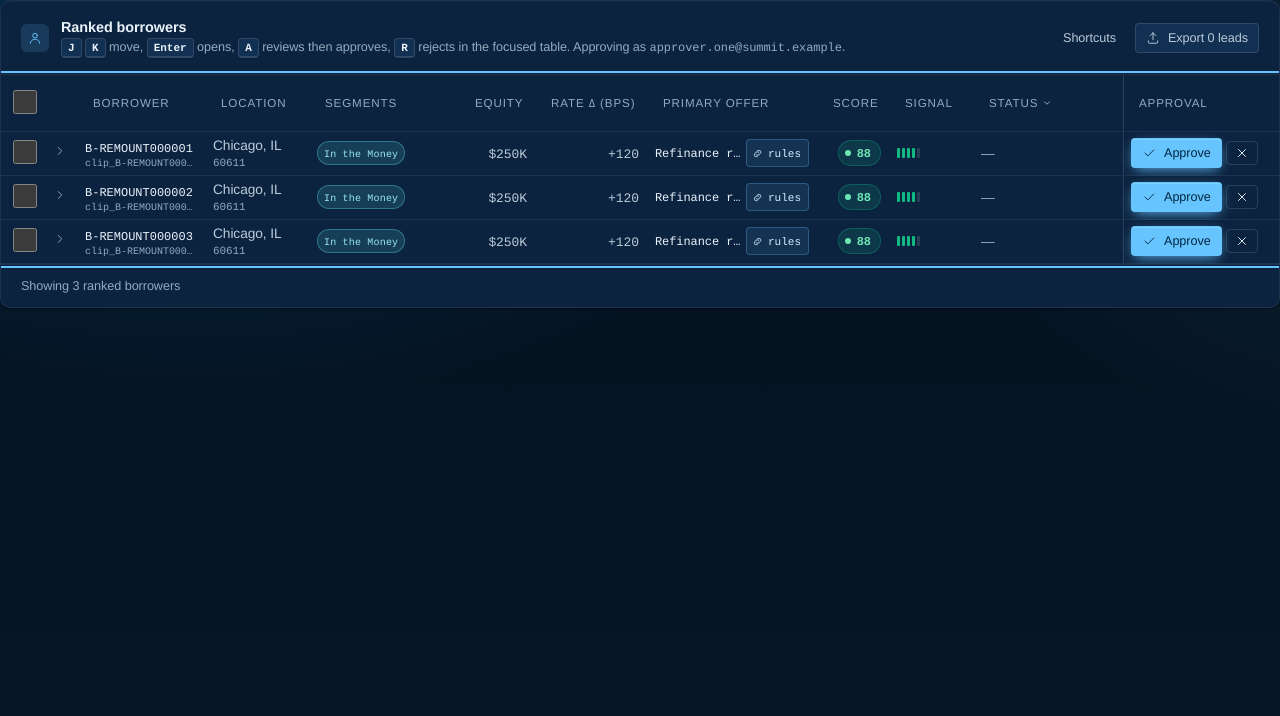
Test: LeadTable: a decision on the wire locks its row's review, across a remount › a review already open when its row's reject goes on the wire stays open, approves nothing, and closes on the reject
This screenshot has width=1280, height=716.
Press j in the element with class "tbl-wrap", box [1,75,1279,264]
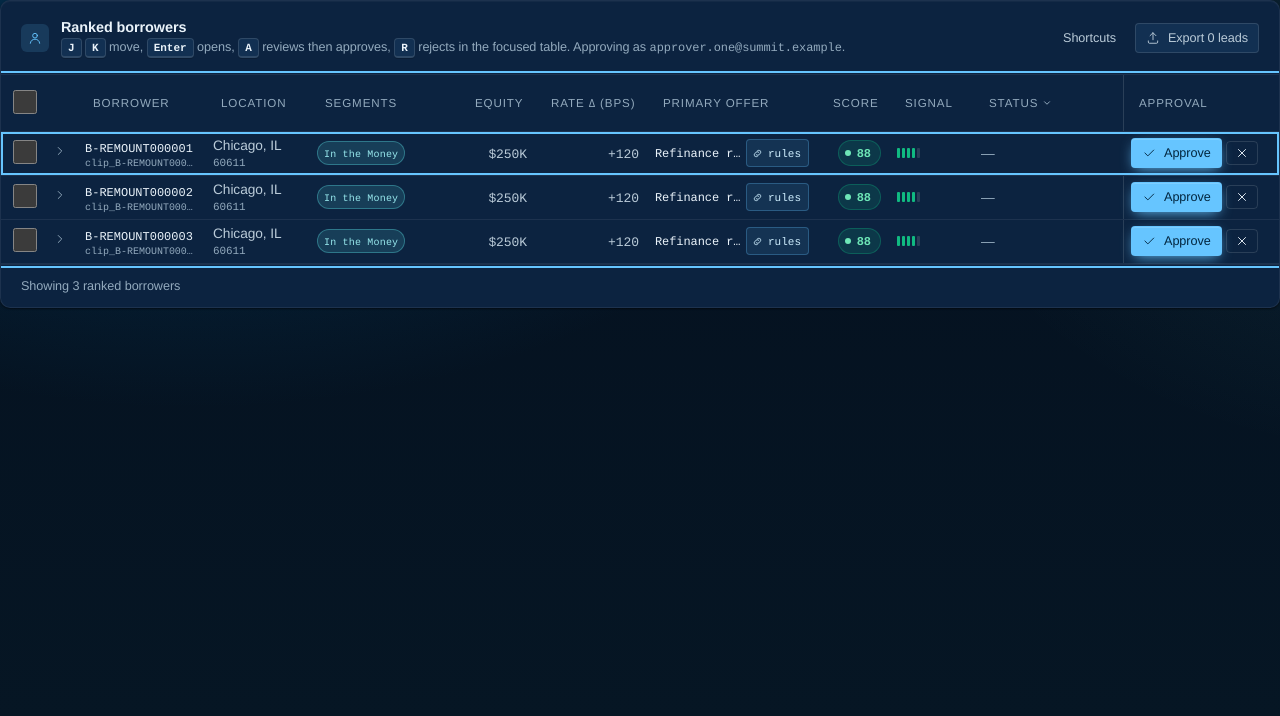
Press Enter in the element with class "tbl-wrap", box [1,75,1279,264]
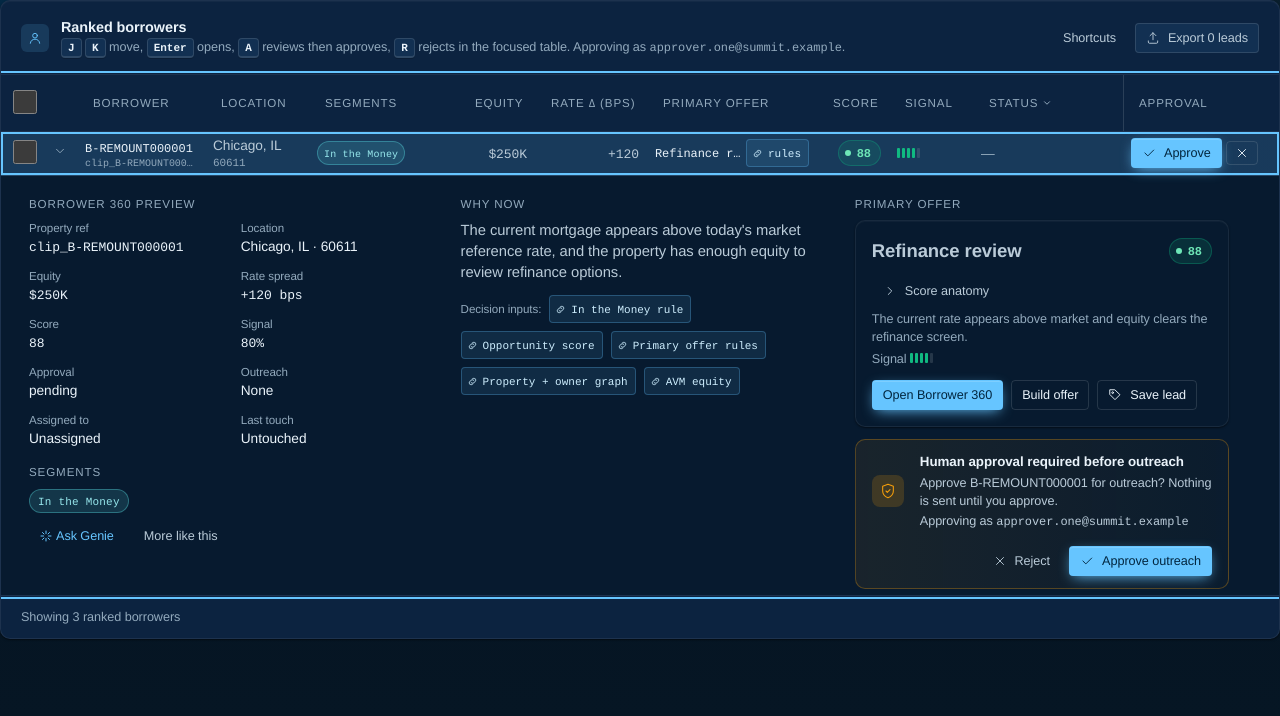
Press a in the element with class "tbl-wrap"
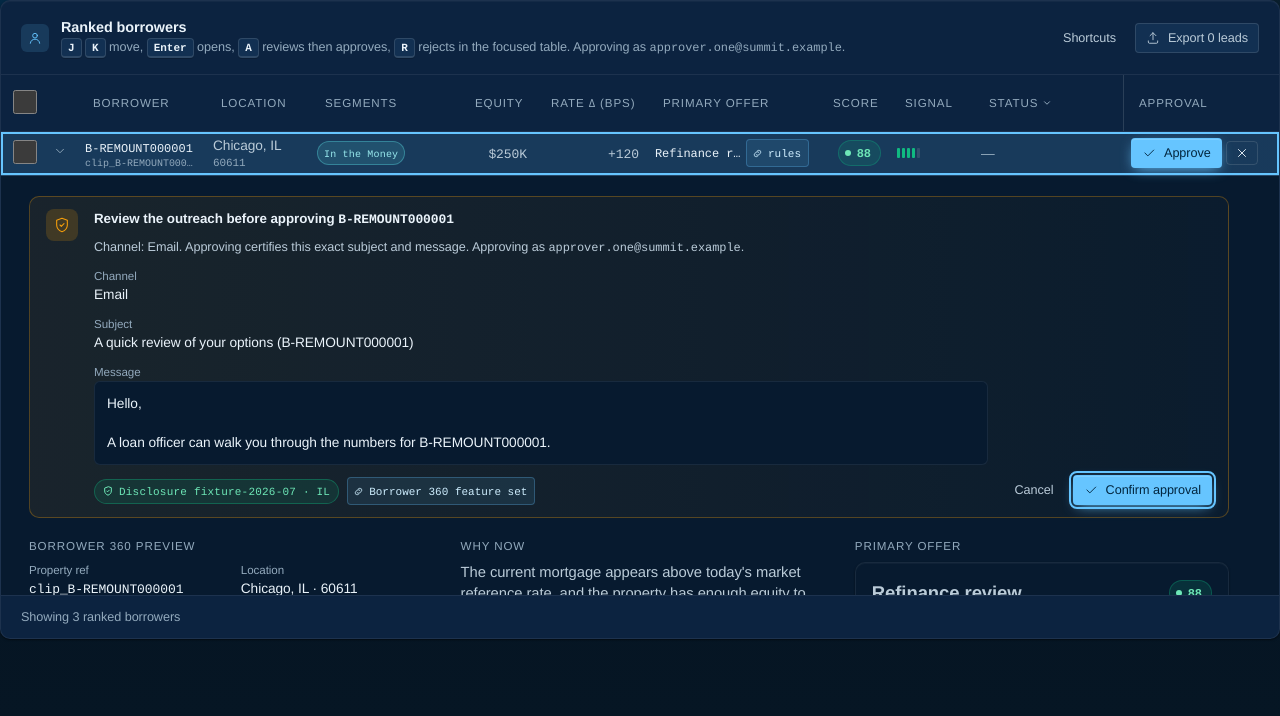
Expected: the form with test id "lead-approve-review" shows "B-REMOUNT000001", [338,210,454,227]
Click the button named "Reject B-REMOUNT000001" at [1242, 153], box [1226,141,1258,165]
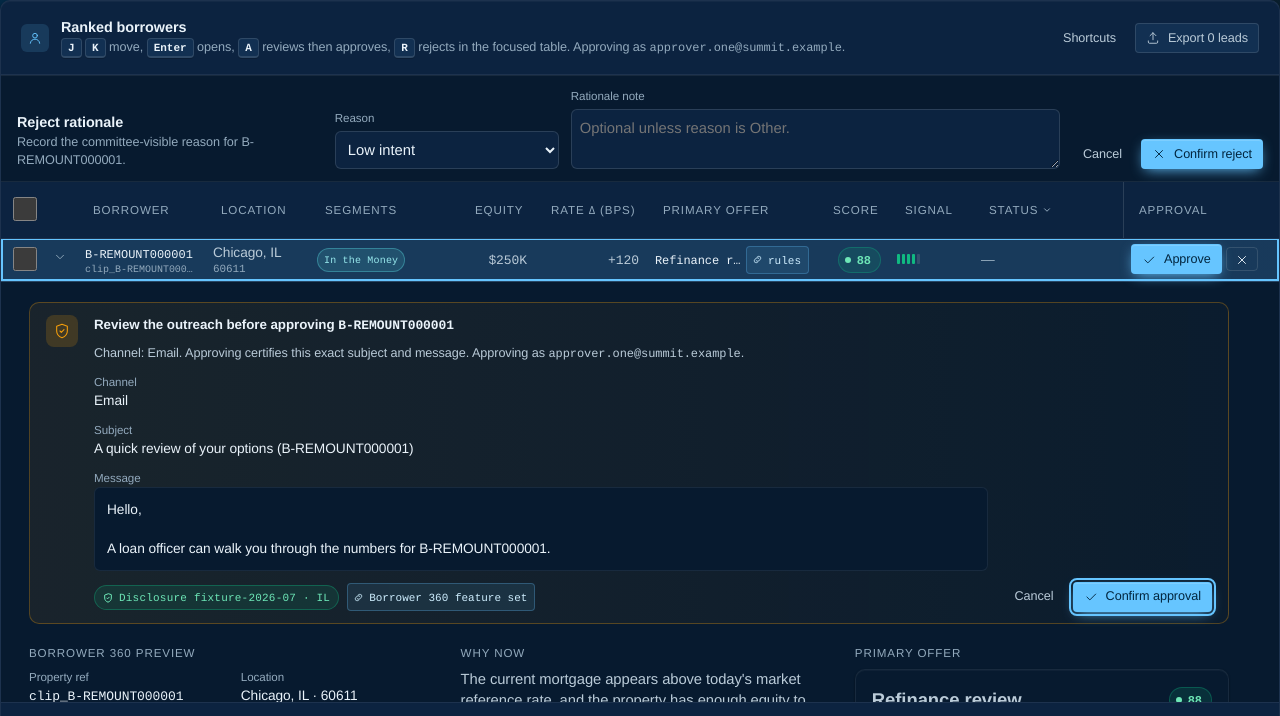
Select "Low intent" in the dropdown with test id "lead-reject-reason" at [447, 150], box [335,131,559,169]
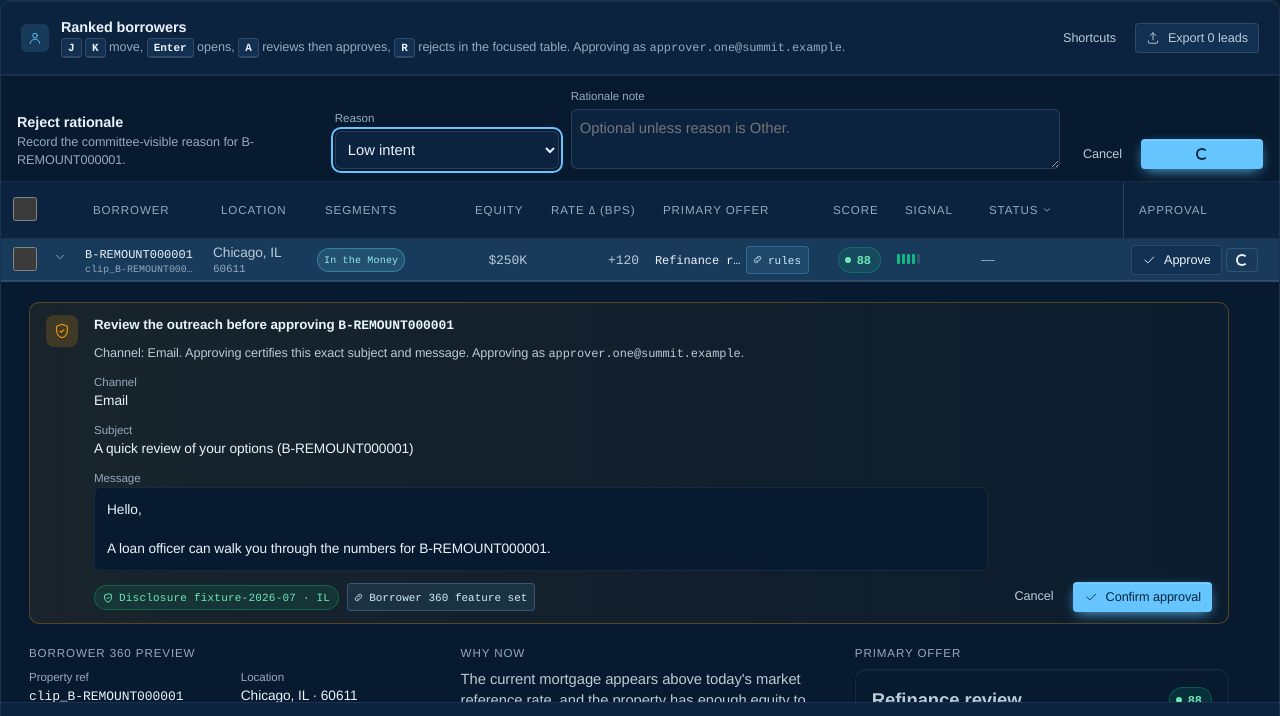
Expected: the form with test id "lead-approve-review" is shown, [29,302,1229,625]
Click the button with test id "lead-approve-review-confirm" at [1142, 597], box [1073,582,1212,612]
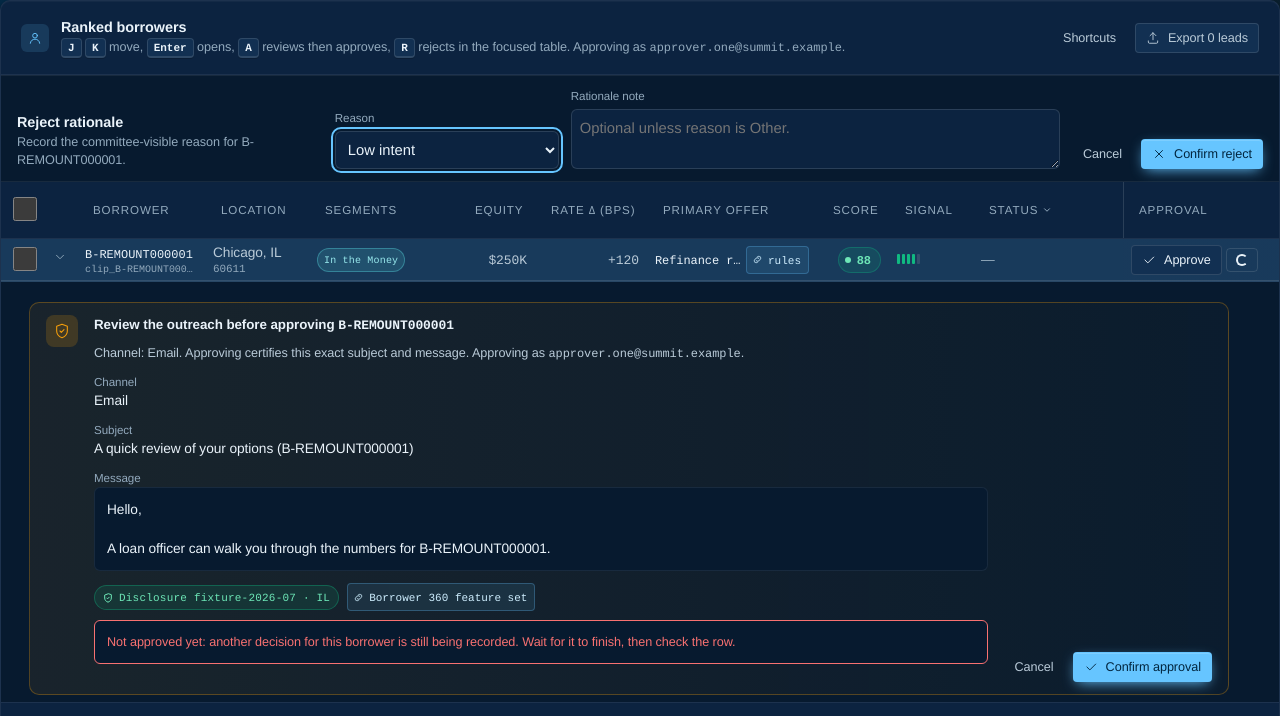
Expected: the message shows "Not approved yet: another decision for this borrower is still being recorded. Wait for it to finish, then check the row.", [107,634,736,650]
